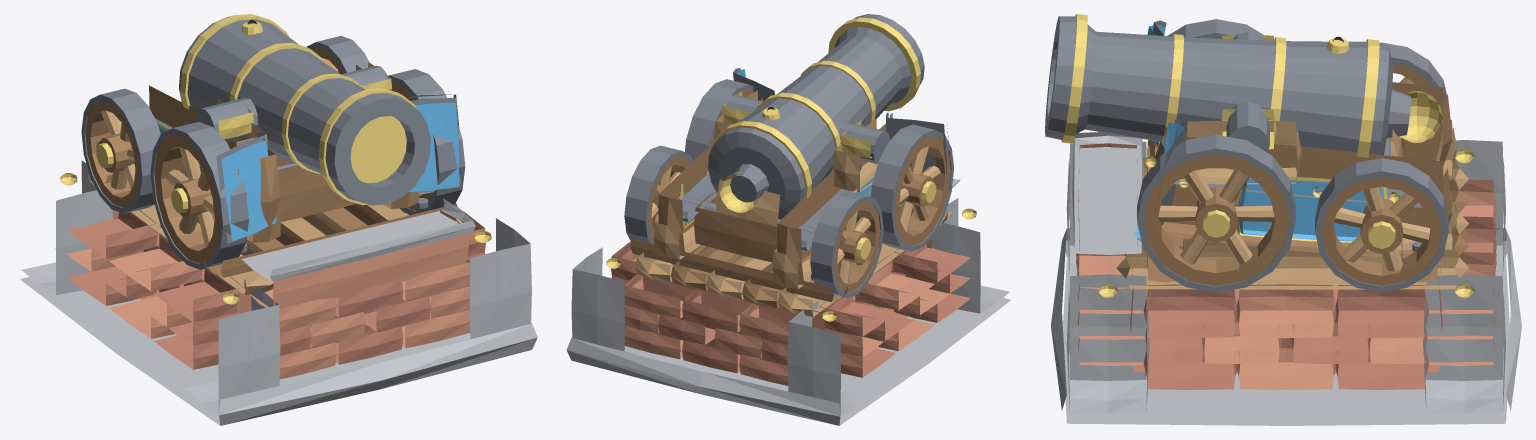
The model's file is canon_defensivo.glb.
3 renders of one model, left to right at view 1: azimuth 30°, elevation 25°; view 2: azimuth 150°, elevation 25°; view 3: azimuth 270°, elevation 25°, orthographic. The views are drawn at different scales.
Parts seen in each view (by area): view 1: CanonDefensivo; view 2: CanonDefensivo; view 3: CanonDefensivo.
Boxes of the visible parts, left/top/right/bottom form: CanonDefensivo: left=20, top=14, right=537, bottom=425; CanonDefensivo: left=566, top=14, right=1010, bottom=425; CanonDefensivo: left=1045, top=14, right=1521, bottom=425.
Bounding box in the file's own units: 1.33 × 1.12 × 1.5.
